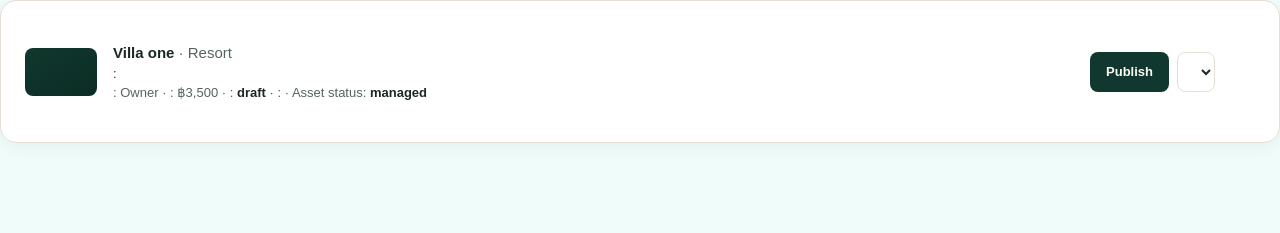
Scenario: publication action feedback › does not confirm a malformed or mismatched successful response null
Step 1. Click the button "Publish" → (1130, 72), box [1090, 52, 1169, 92]
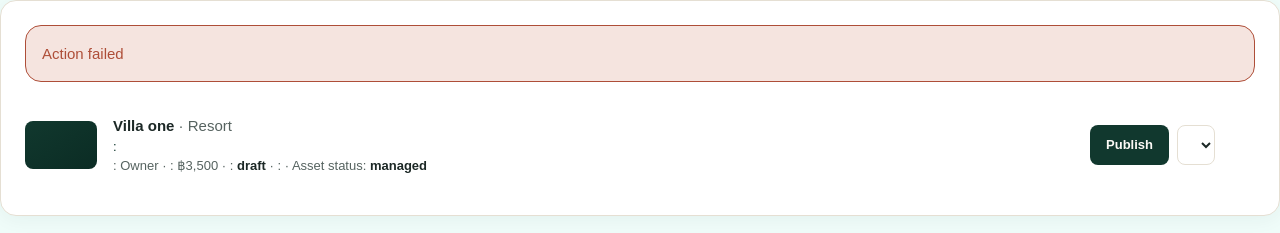
Check: the button "Publish" is enabled, box [1090, 124, 1169, 164]
Check: the message reads "Action failed", box [42, 45, 124, 62]
